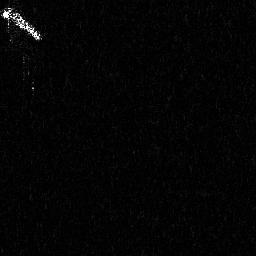ship: (1, 5, 45, 42)
